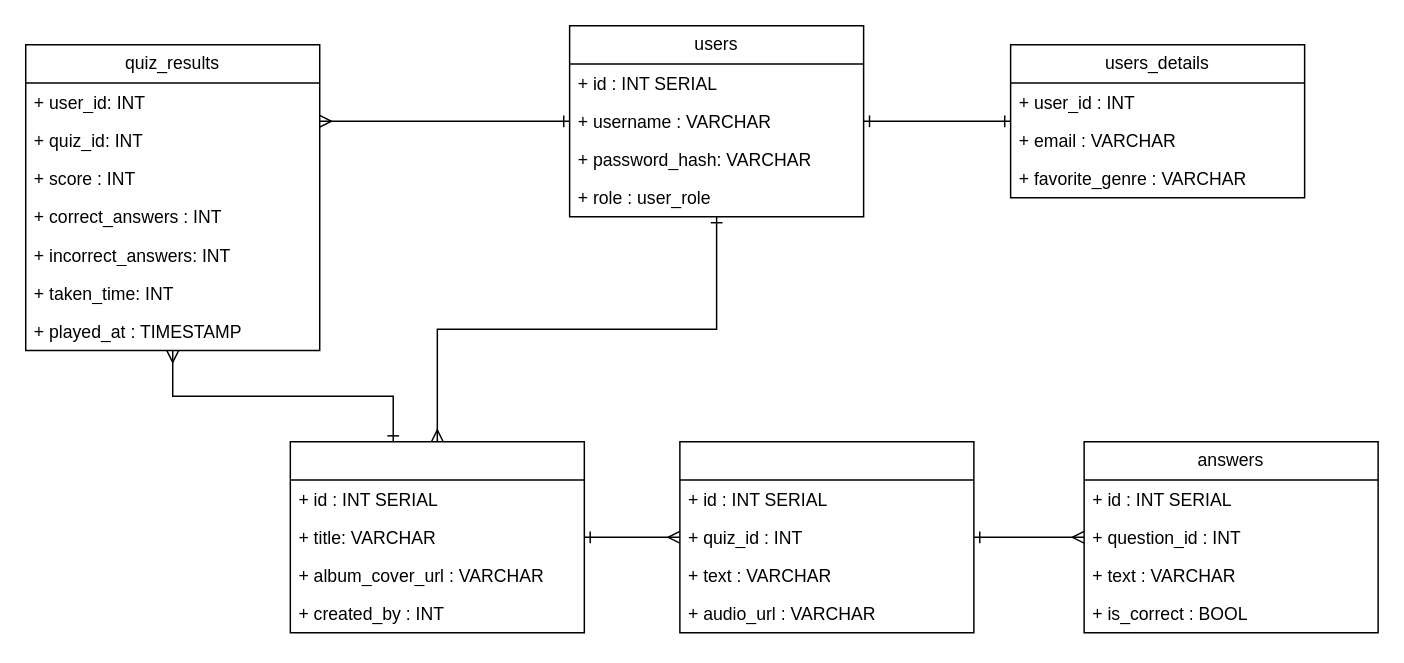
This 1404x663 diagram has some shape labels left out. The shapes that lost their labels are listed below. From the top down, each one's box as (x1, y1, x2, y2) in pixels, then its label:
(289, 440, 584, 633): quizzes
(678, 440, 974, 633): questions
